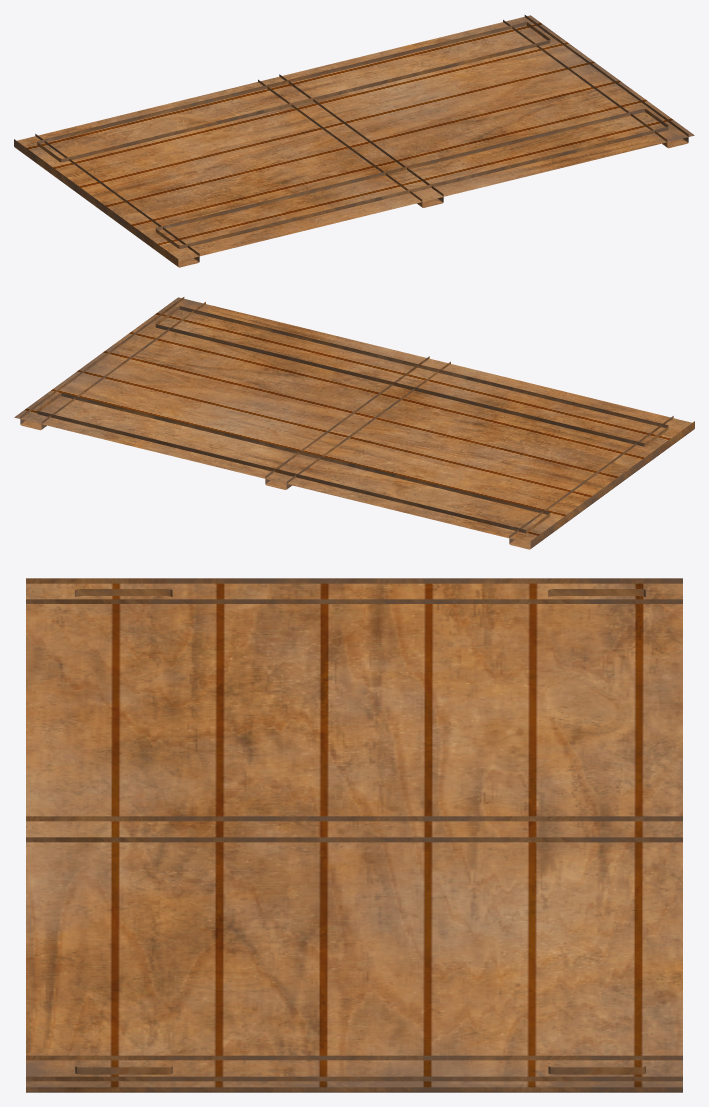
File: castleroof.fbx
3 renders of one model, top to bottom at view 1: azimuth 30°, elevation 25°; view 2: azimuth 150°, elevation 25°; view 3: azimuth 270°, elevation 25°, orthographic. The views are drawn at different scales.
Parts seen in each view (by area): view 1: polySurface3; view 2: polySurface3; view 3: polySurface3.
Part boxes in pixels (box(x1,y1,x2,y2)): polySurface3: box(14, 15, 694, 267); polySurface3: box(14, 297, 694, 549); polySurface3: box(26, 578, 682, 1092).
Bounding box in the file's own units: 70.2 × 1.28 × 38.65.
1 material, 1 textured.
